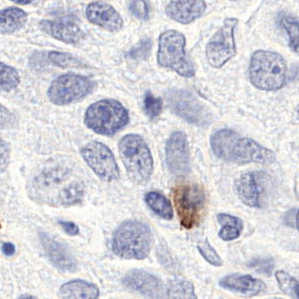Lymphocyte: (169, 182, 210, 230)
